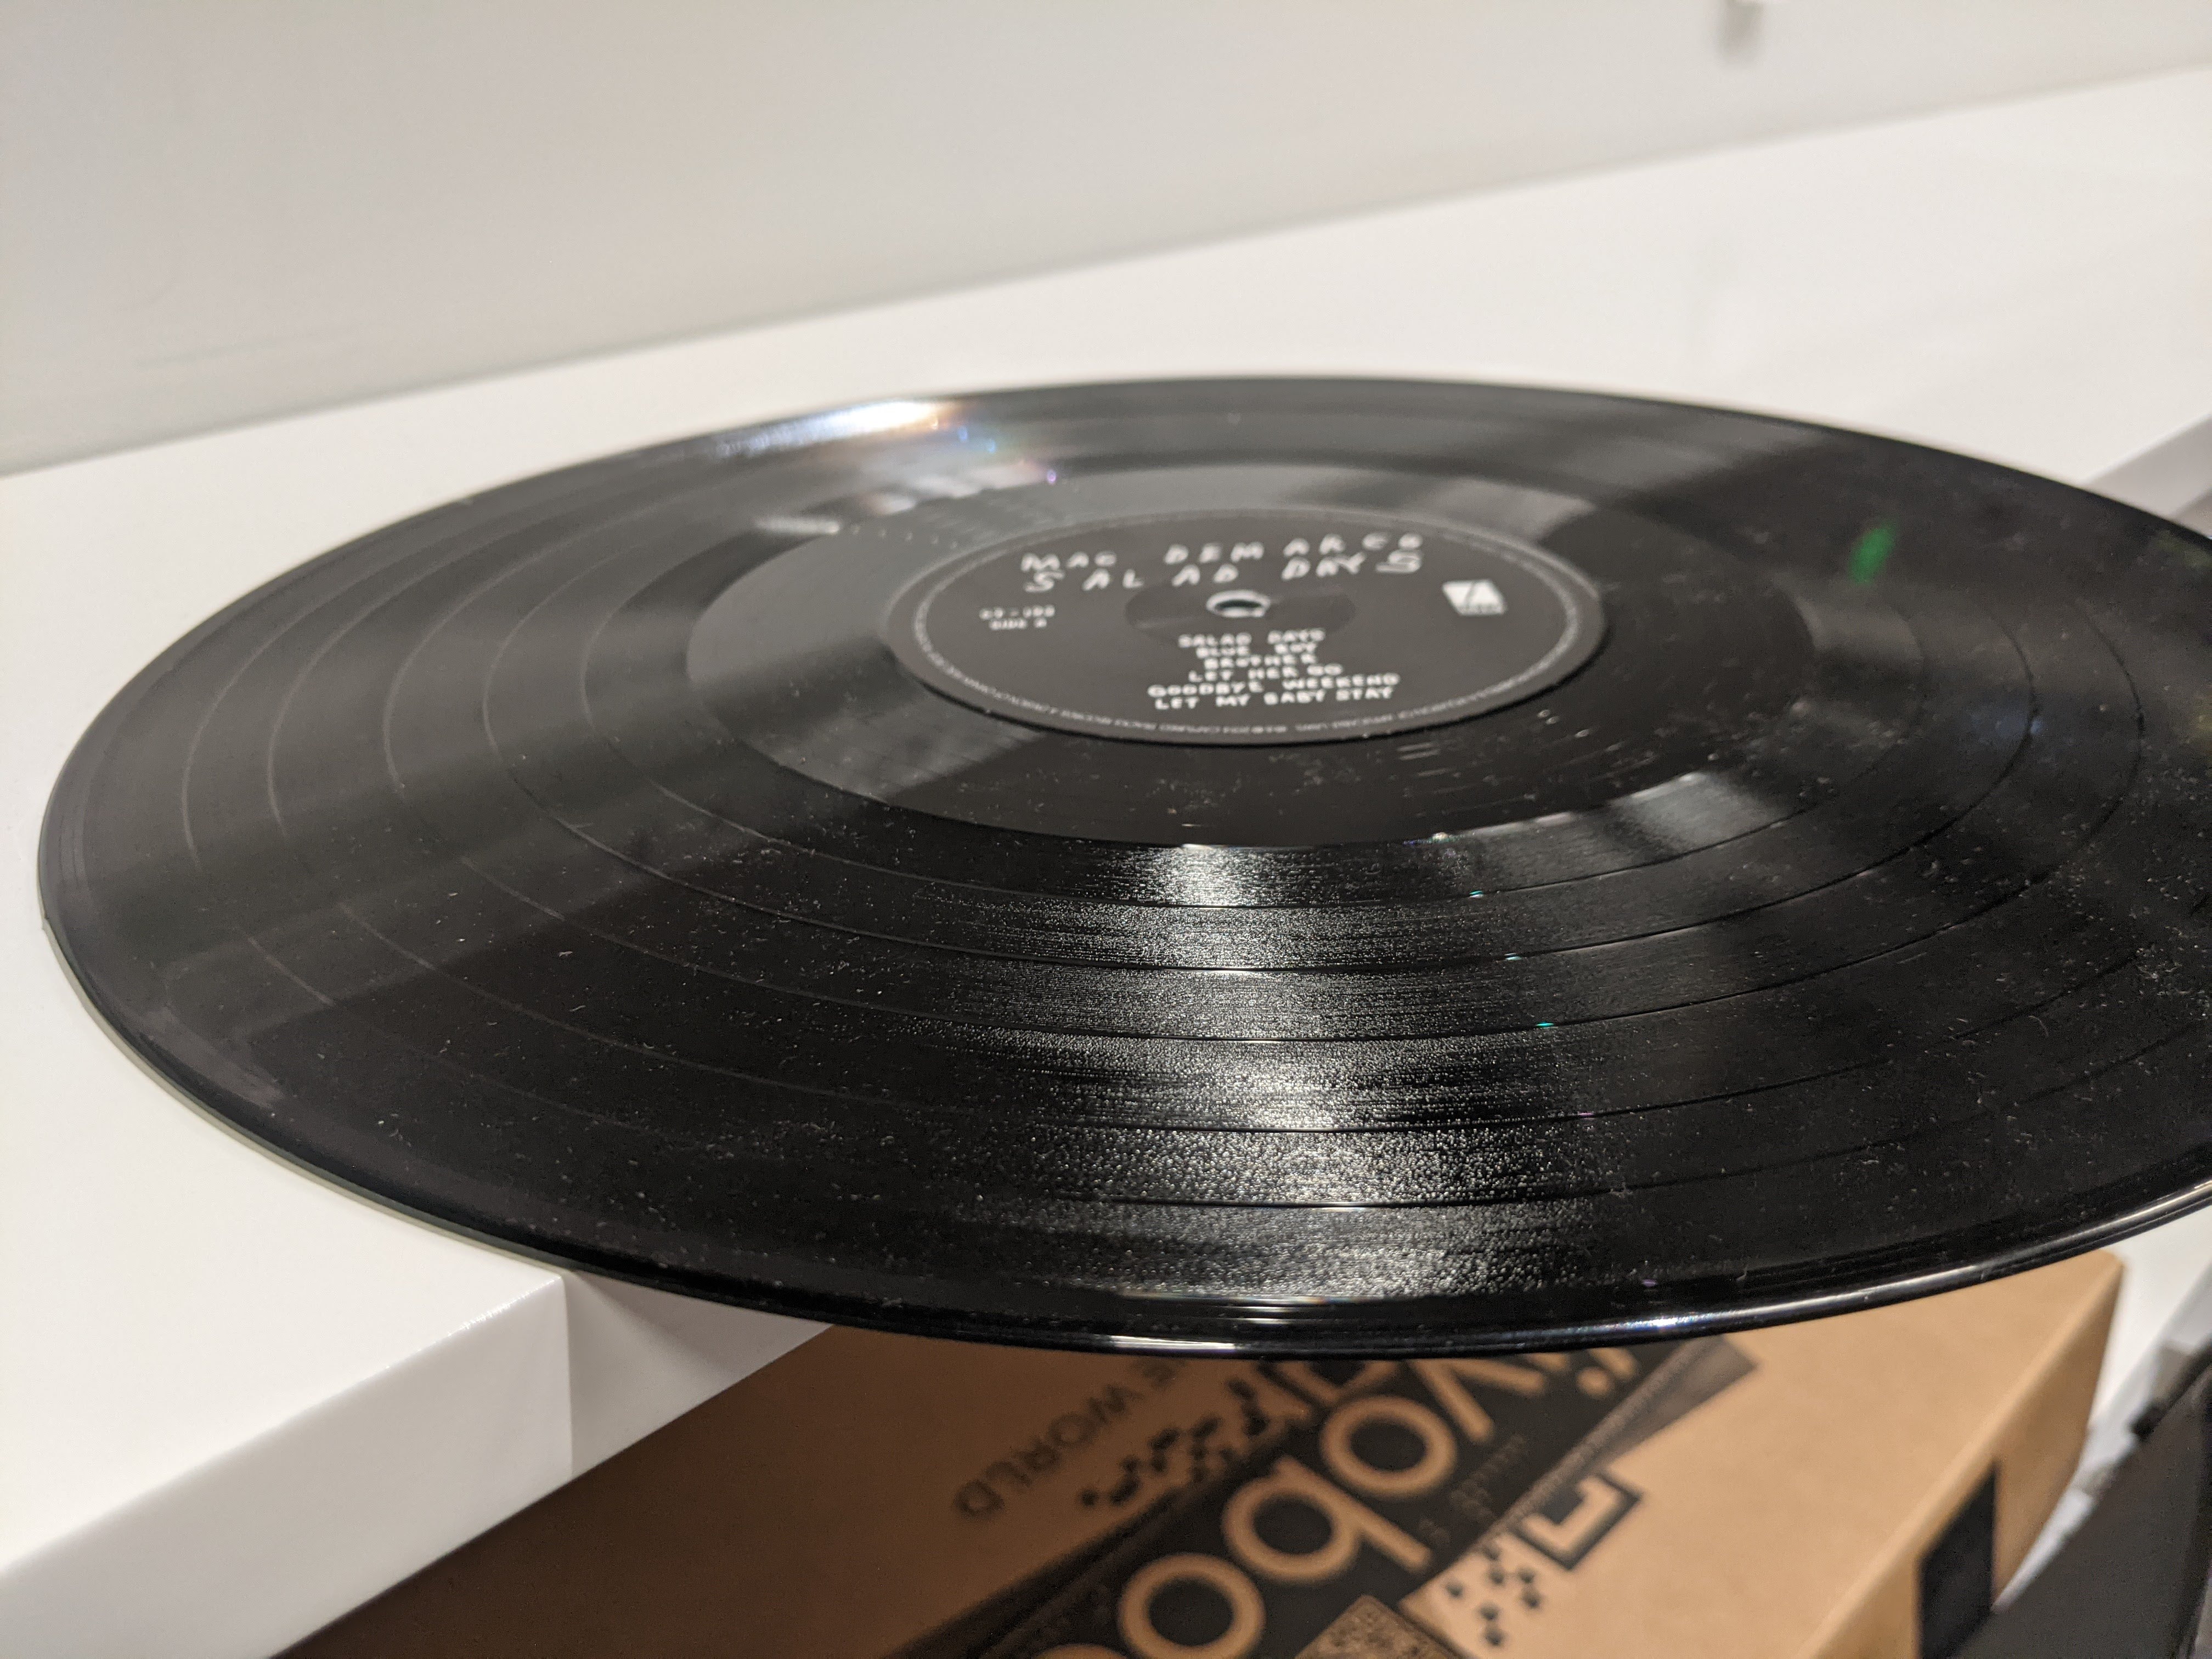song_edge: (486, 775, 627, 863), (277, 870, 408, 951), (359, 760, 465, 856), (646, 784, 792, 849), (160, 823, 240, 927)
